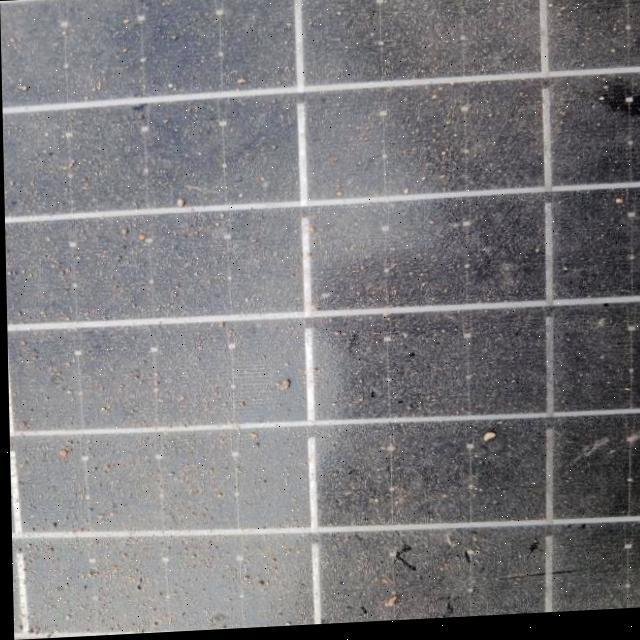Surface Contaminant: (26, 0, 640, 639)
